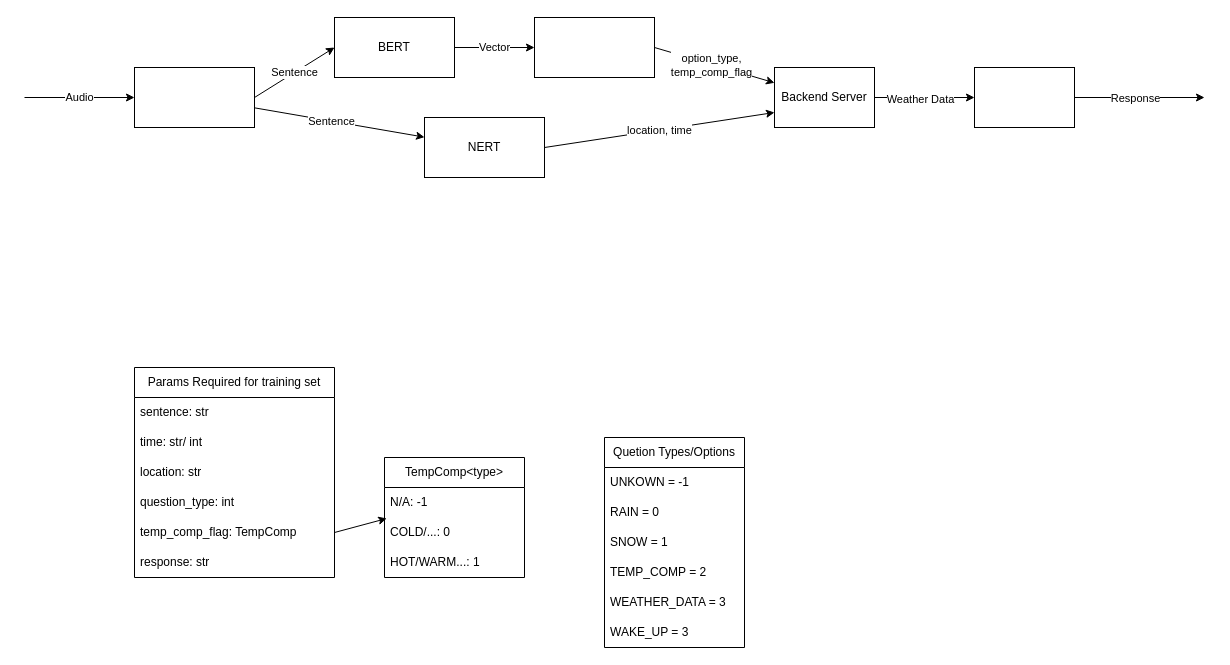
This 1230x665 diagram has some shape labels left out. Here are the shapes that lost their labels. From the top down, the box of each, then its label:
(534, 16, 654, 78): Simple NN
(134, 66, 254, 128): WAV2VEC
(974, 66, 1074, 128): Decision Tree
